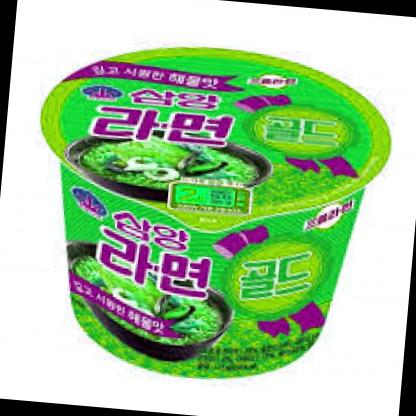Ramen: (20, 35, 402, 394)
